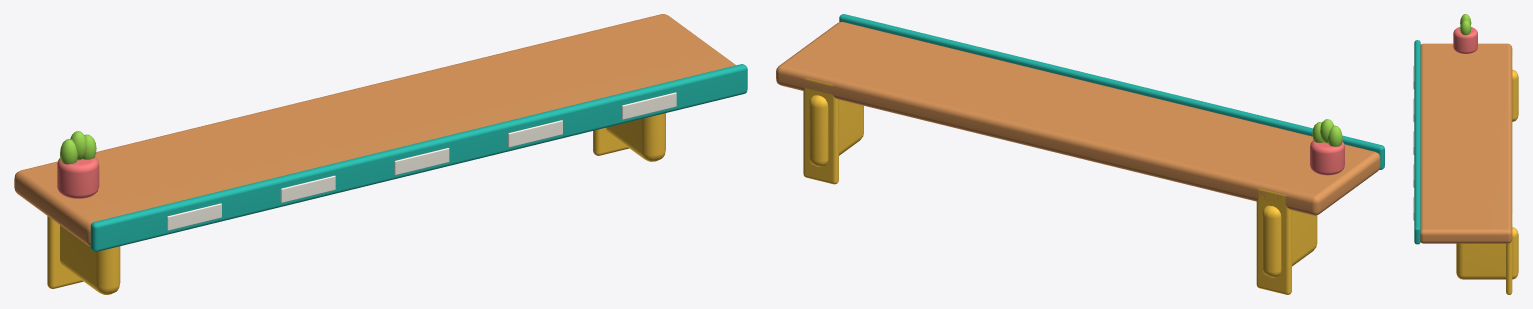
Rendered from VialShelf.fbx.
3 views of the same model, side by side, from view 1: azimuth 30°, elevation 25°; view 2: azimuth 150°, elevation 25°; view 3: azimuth 270°, elevation 25° (orthographic). The views are drawn at different scales.
Visible parts, largest first — view 1: VialShelf mesh; view 2: VialShelf mesh; view 3: VialShelf mesh.
Part boxes in pixels (bbox=[...]): VialShelf mesh: bbox=[14, 14, 747, 294]; VialShelf mesh: bbox=[776, 14, 1384, 294]; VialShelf mesh: bbox=[1413, 14, 1518, 294].
Size of the model in its own units: 1.44 by 0.392 by 0.338.
